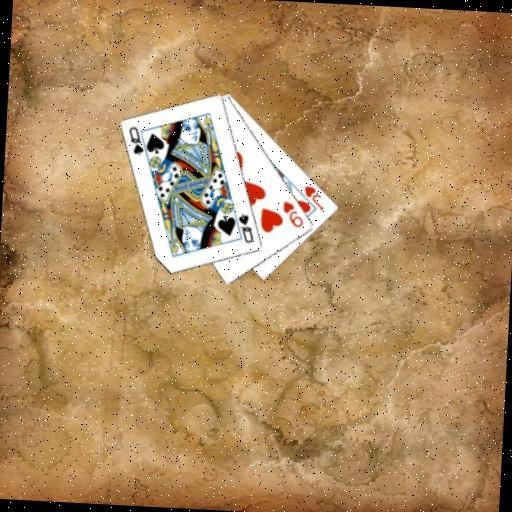9H: (279, 199, 306, 230)
JH: (301, 182, 327, 212)
QS: (235, 211, 257, 246), (125, 123, 147, 157)
